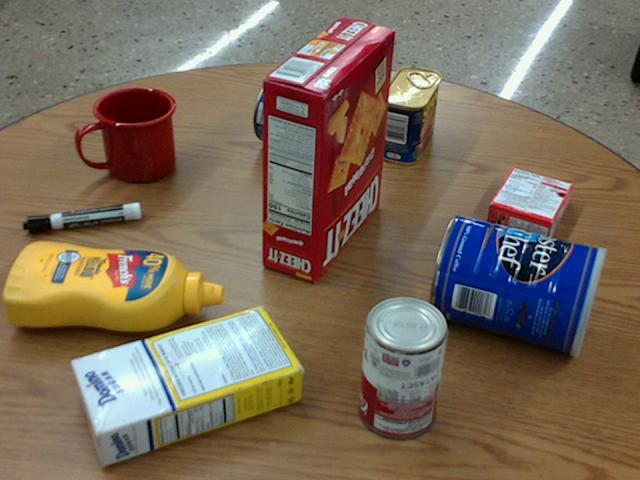cracker_box: (261, 15, 395, 281)
gelatin_box: (487, 166, 572, 239)
large_marker: (24, 201, 141, 233)
master_chef_can: (431, 212, 607, 354)
mug: (78, 88, 176, 183)
mustard_bottle: (4, 240, 223, 332)
potted_meat_can: (380, 66, 441, 165)
sugar_box: (68, 305, 301, 464)
tomato_soup_can: (361, 294, 449, 437)
tuna_fish_can: (252, 73, 311, 146)
